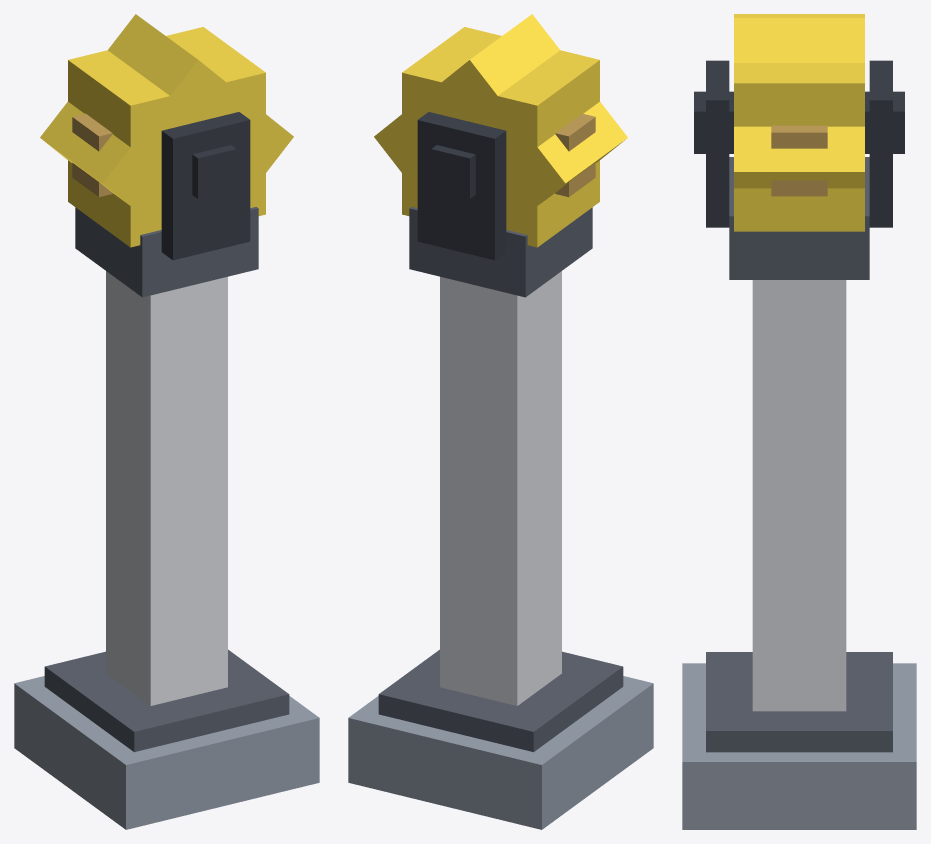
The model's file is zipanchor.glb.
3 views of the same model, side by side, from view 1: azimuth 30°, elevation 25°; view 2: azimuth 150°, elevation 25°; view 3: azimuth 270°, elevation 25° (orthographic). The views are drawn at different scales.
Parts seen in each view (by area): view 1: body.038, roller; view 2: body.038, roller; view 3: body.038, roller.
Part boxes in pixels (box(x1,y1,x2,y2)): body.038: box(14, 112, 319, 829); roller: box(40, 14, 293, 247); body.038: box(348, 112, 653, 829); roller: box(374, 14, 627, 247); body.038: box(682, 60, 916, 829); roller: box(734, 14, 864, 231).
Bounding box in the file's own units: 0.3125 × 1.12 × 0.3125.
